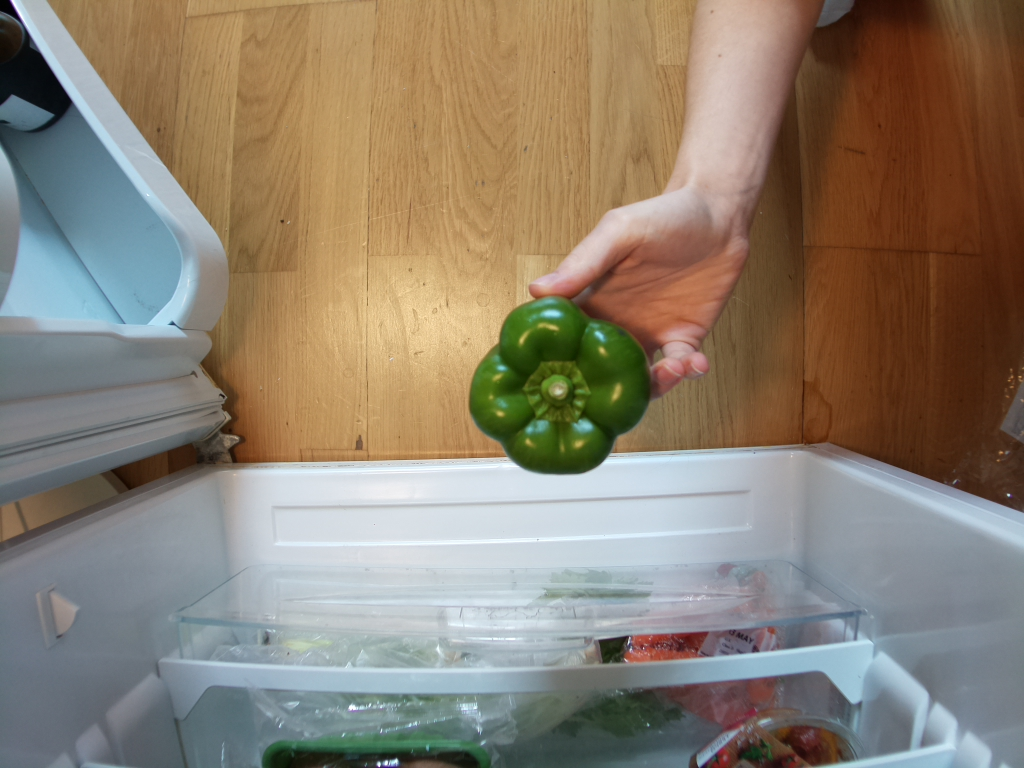pepper: (471, 296, 654, 476)
